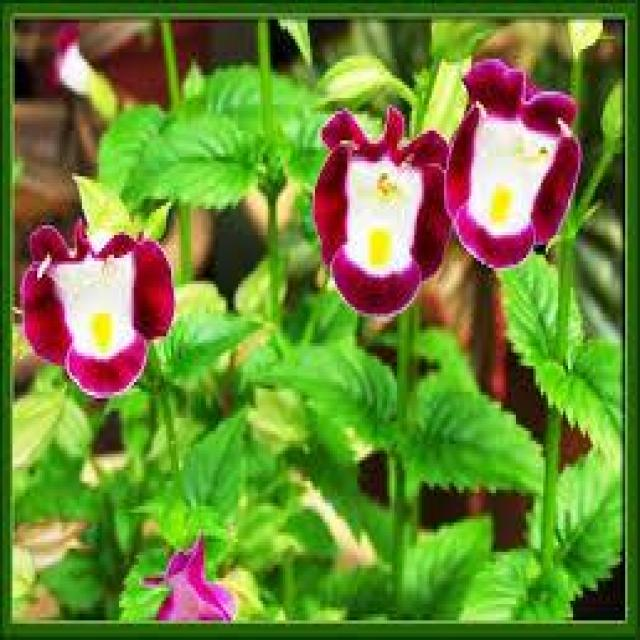organic waste: (316, 108, 458, 333), (448, 60, 586, 282), (21, 219, 175, 395), (130, 522, 240, 614)
